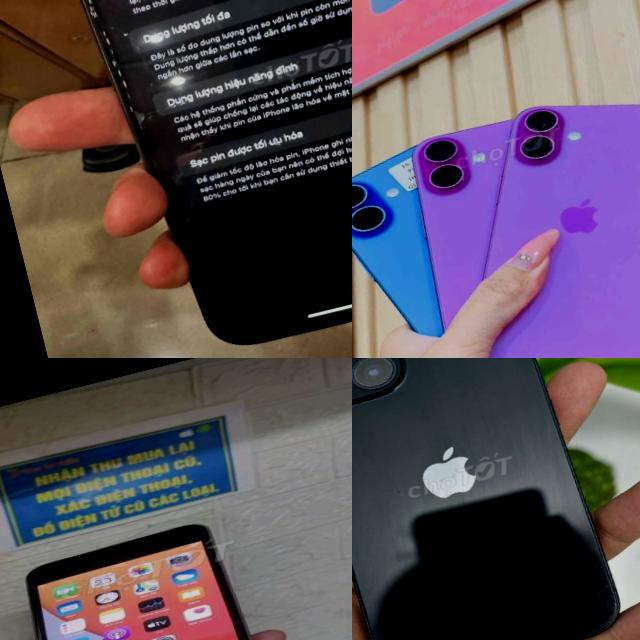gen_11: (46, 0, 352, 358)
gen_12_13: (352, 358, 631, 640)
gen_16: (428, 67, 640, 358)
gen_6: (0, 506, 295, 640)
